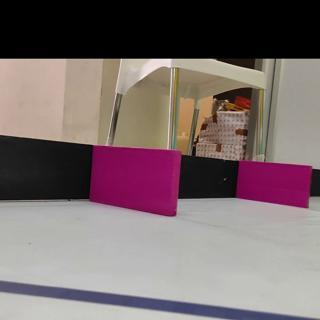xparking: (95, 151, 178, 213), (241, 165, 310, 207)
